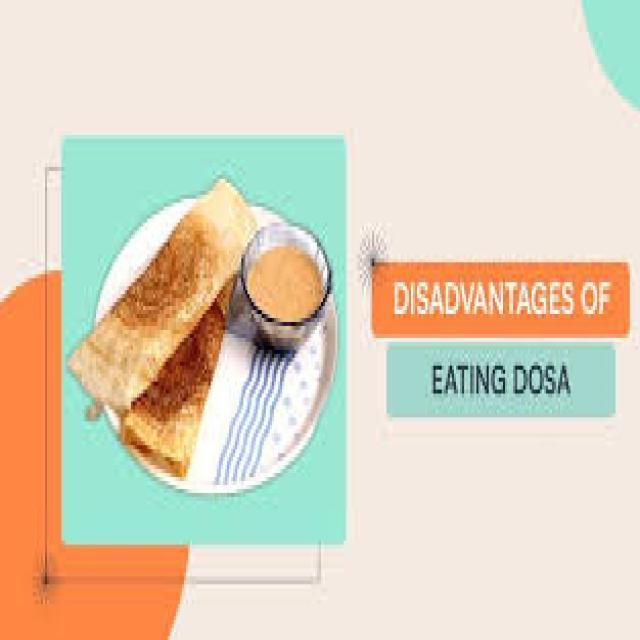DOSA: (67, 183, 254, 405), (123, 306, 223, 473)
